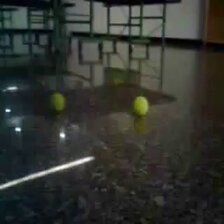tennis: (133, 96, 149, 116), (51, 92, 66, 112)
